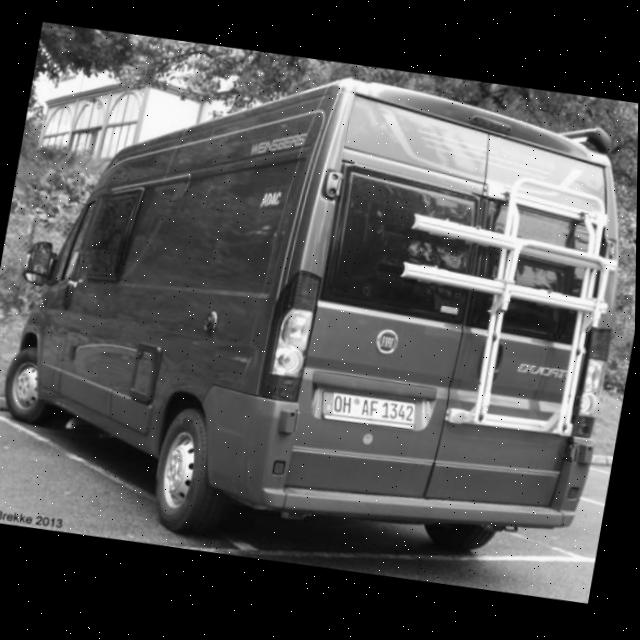license-plates: (322, 392, 417, 429)
